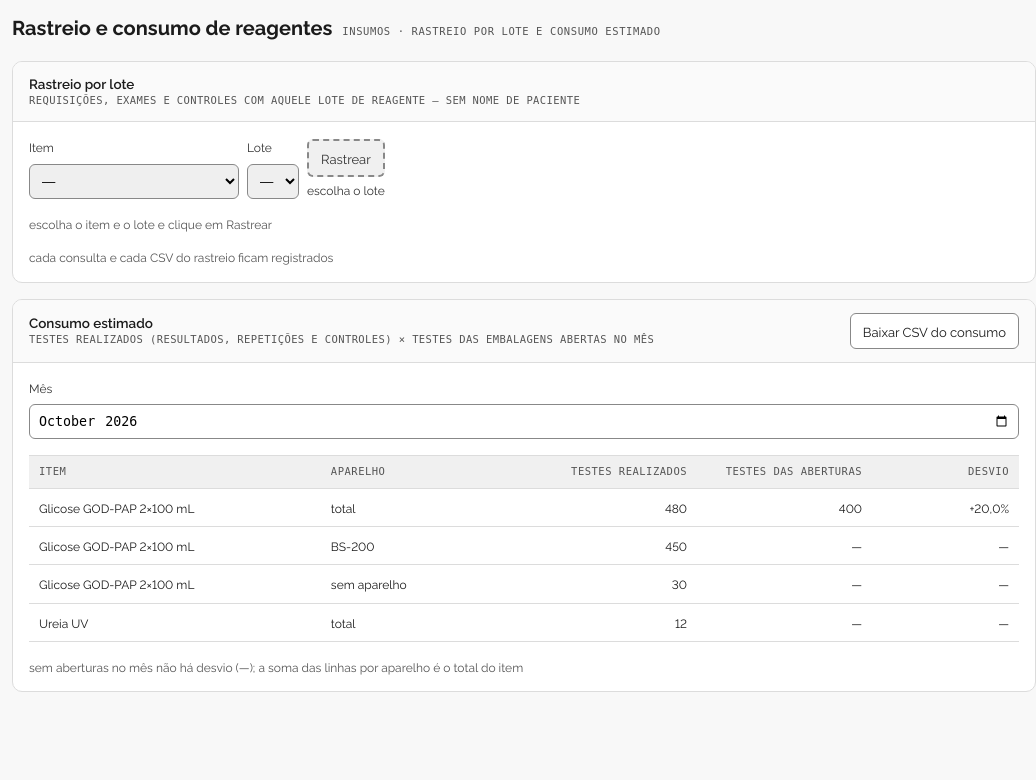
Test case: LabTraceability › lote de outro laboratório (404) mostra frase própria
Select "Glicose GOD-PAP 2×100 mL" in the dropdown labelled "Item" at {"x": 134, "y": 181}, box [29,164,239,199]
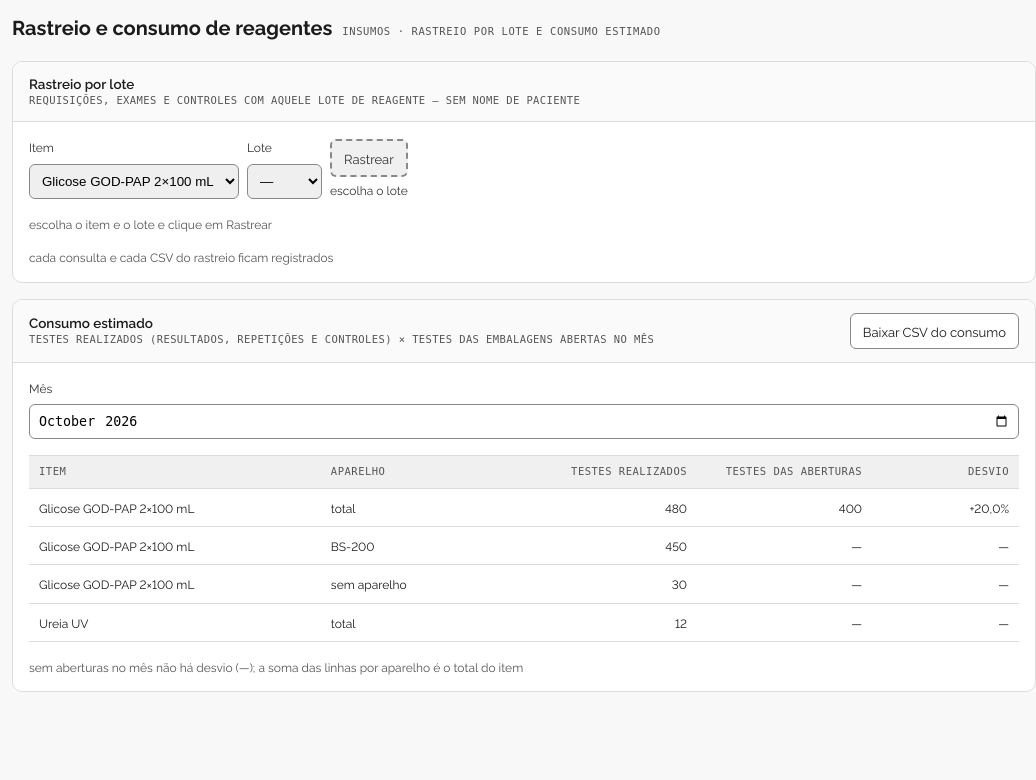
Select "R-778" in the dropdown labelled "Lote" at {"x": 284, "y": 181}, box [247,164,322,199]
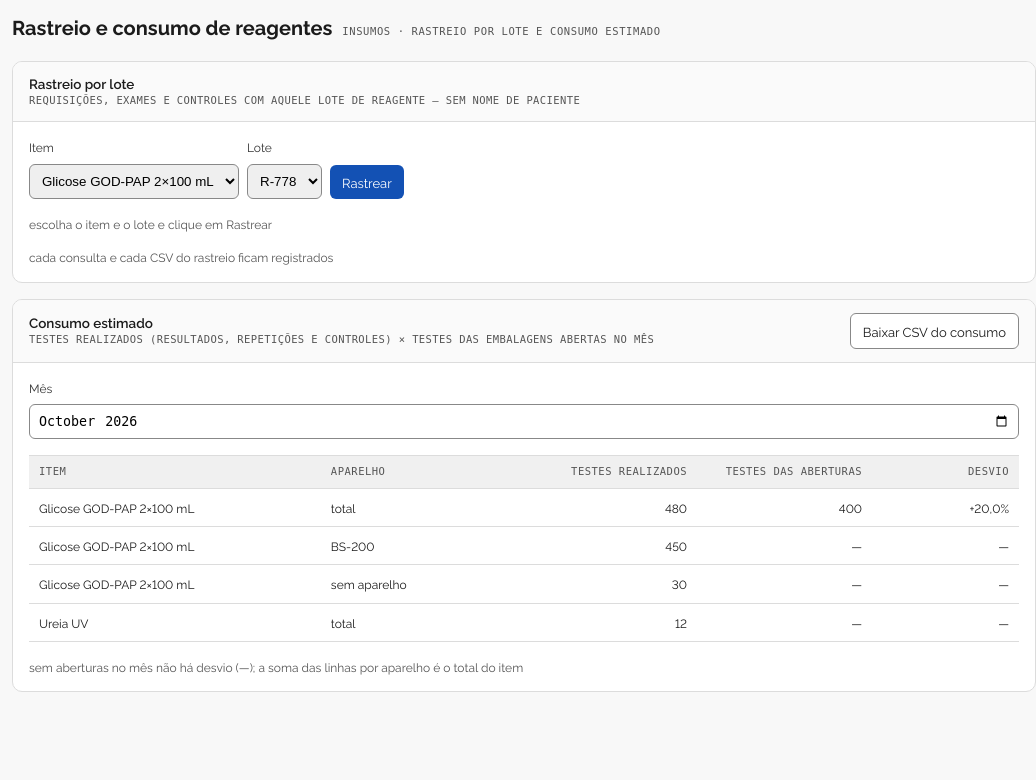
Click the button "Rastrear" at {"x": 367, "y": 182}, box [330,165,404,199]
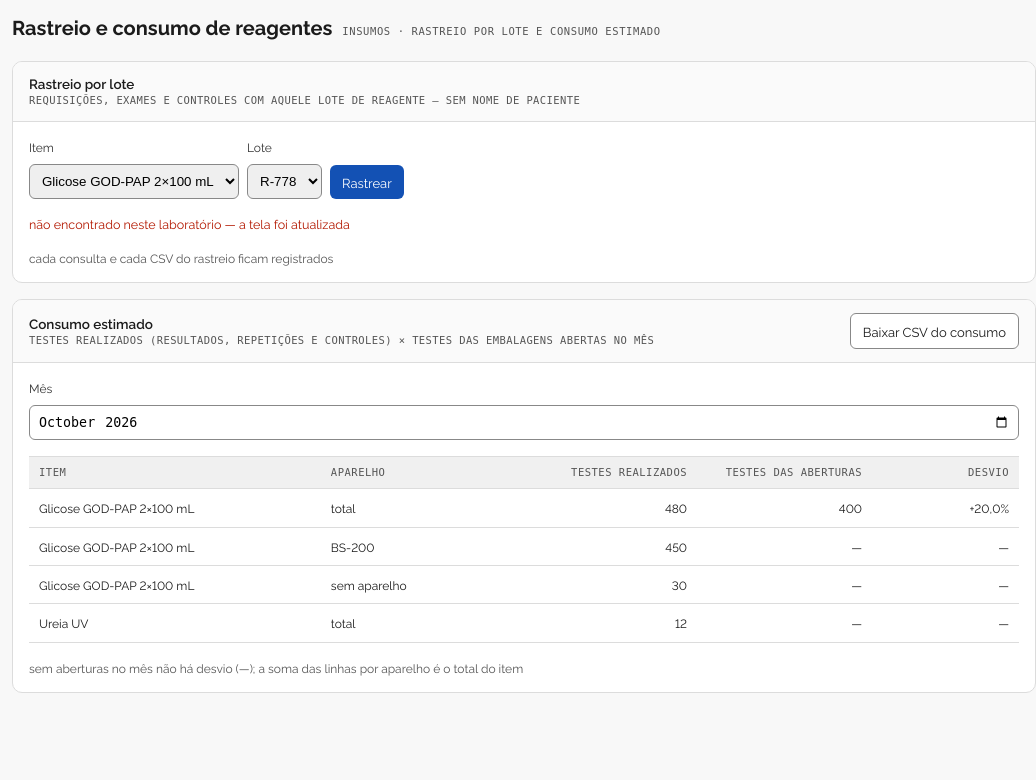
expect the message "não encontrado neste laboratório — a tela foi atualizada" is shown: met, box [29,215,350,232]
